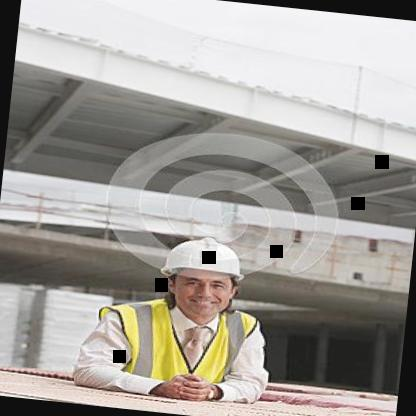helmet: (148, 228, 260, 324)
